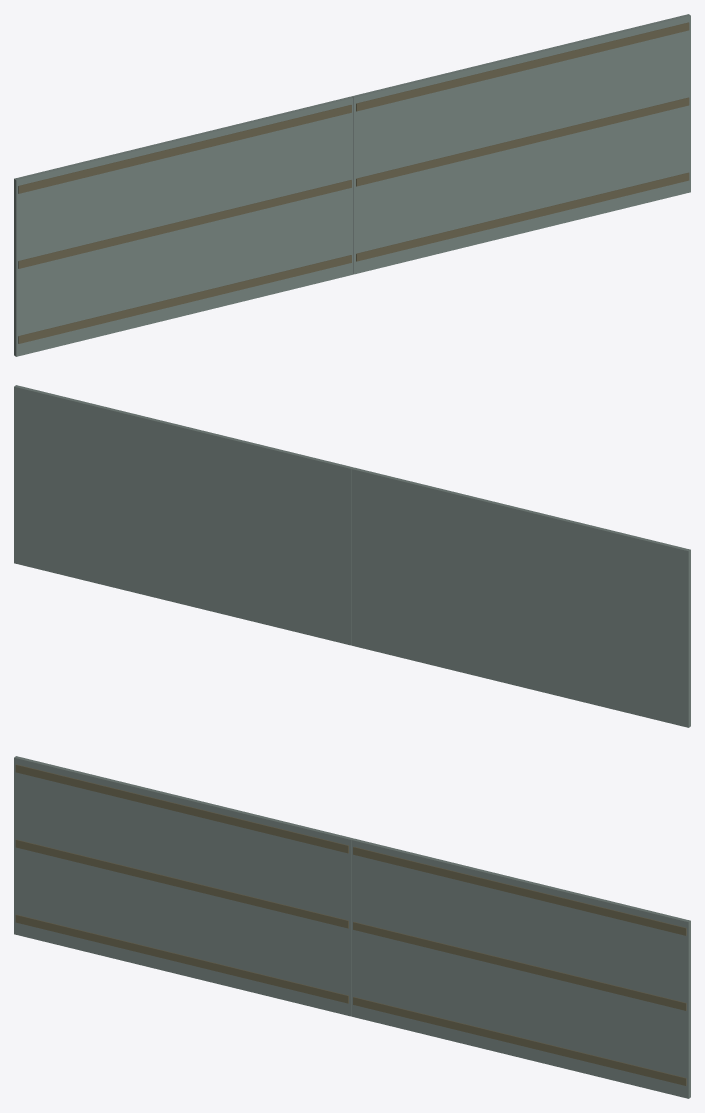
The model's file is SM_Hangar_v4_LOD1.fbx.
The picture shows the model from 3 angles, top to bottom: view 1: azimuth 30°, elevation 25°; view 2: azimuth 150°, elevation 25°; view 3: azimuth 330°, elevation 25°; orthographic projection.
Parts seen in each view (by area): view 1: Porton_O, Porton_E; view 2: Porton_O, Porton_E; view 3: Porton_E, Porton_O.
Boxes of the visible parts, x1,y1,x2,y2 form: Porton_O: (14,96,353,356); Porton_E: (351,14,690,274); Porton_O: (351,467,690,727); Porton_E: (14,385,353,645); Porton_E: (351,838,690,1098); Porton_O: (14,756,353,1016).
Size of what is drawn, in the model's own units: 31.98 by 8 by 0.23.
